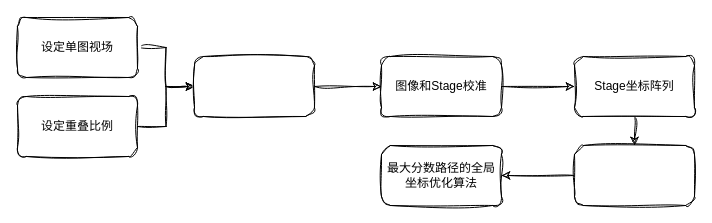
This 712x223 diagram has some shape labels left out. Each missing label, with the centre of its shape:
区域递减的 两两拼接算法: (634,175)
导航图划定拍摄区域 (任意形状): (254,86)
